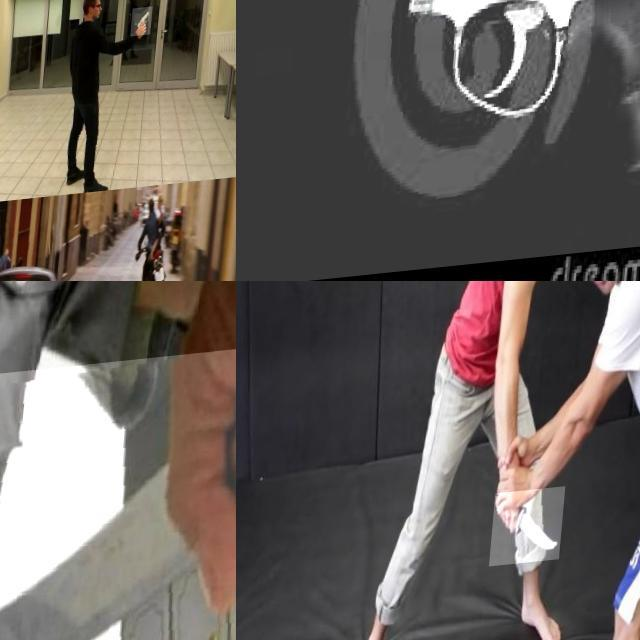-: (0, 350, 236, 640), (496, 494, 571, 572)
gun-knife-thesis - v11 Yolov5 augmented: (236, 0, 640, 281), (134, 11, 156, 41)
